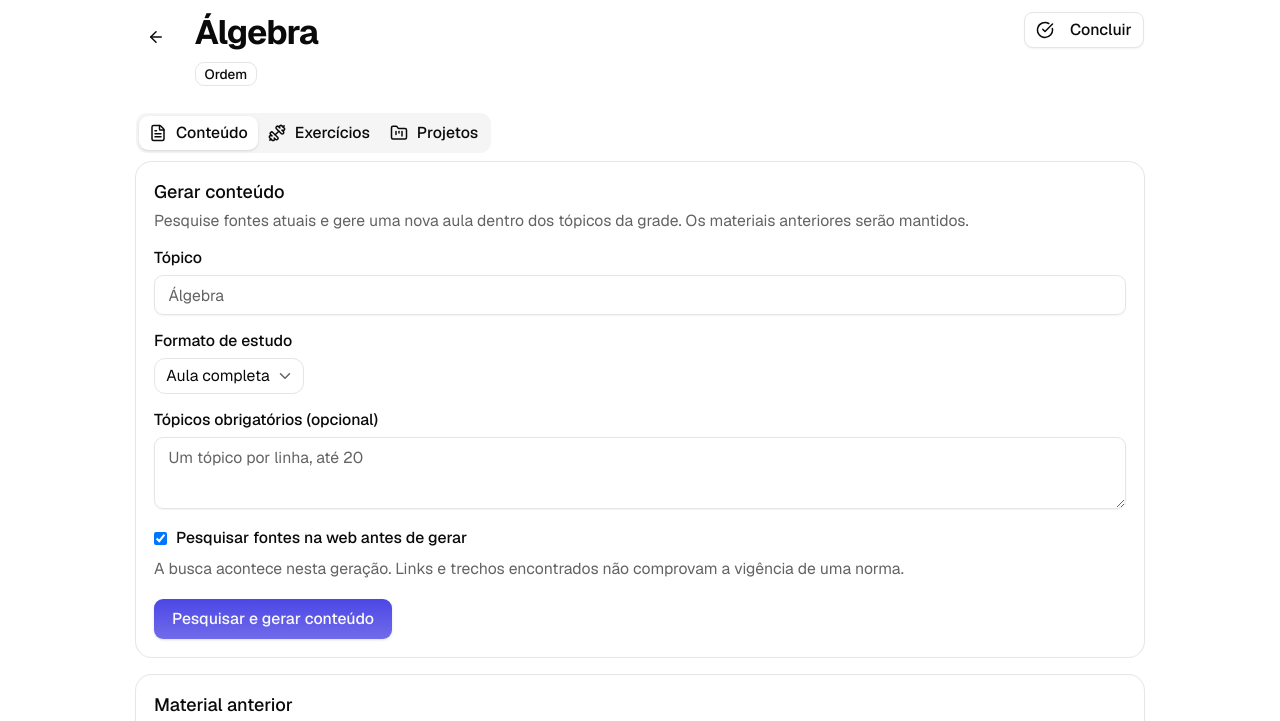
it: Geração em módulo com materiais existentes › permite escolher outro tipo e gerar um novo exercício
Click the tab "Exercícios" at coordinates (319, 133), box [258,116,380,150]
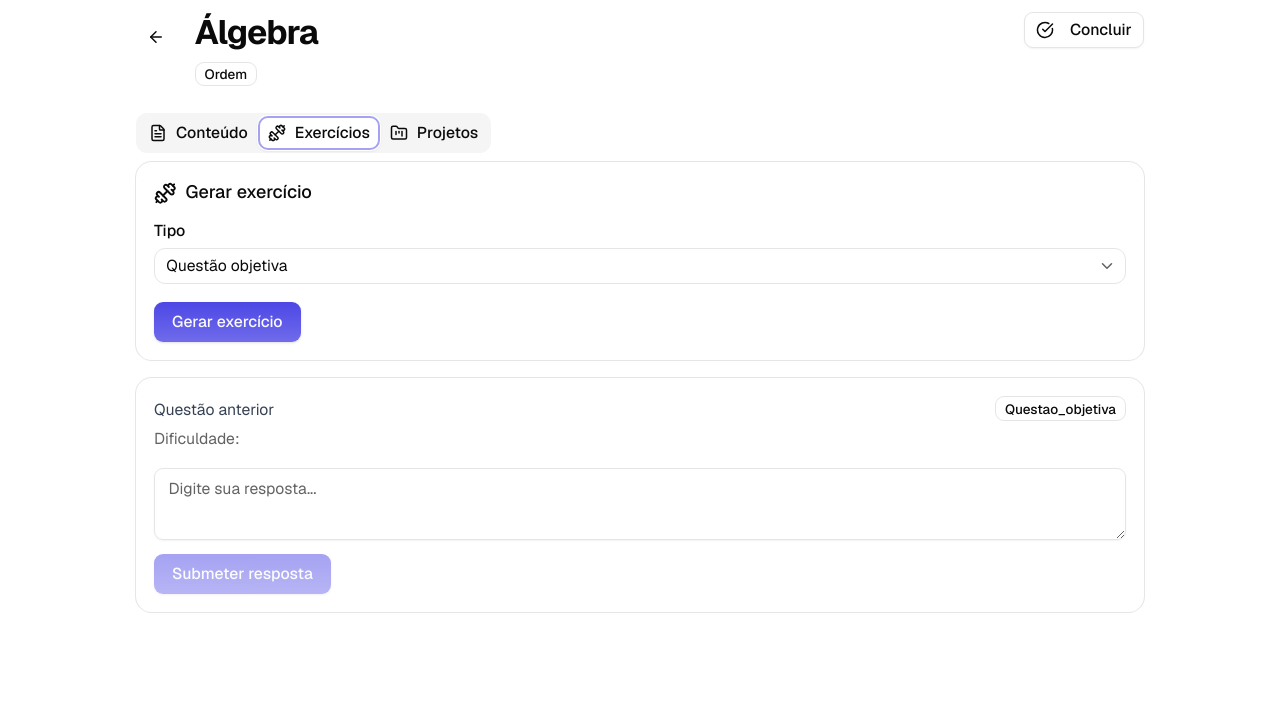
Expected: the text "Questão anterior" is shown, [154,400,274,420]
Click the dropdown at coordinates (227, 265), box [154,248,1126,284]
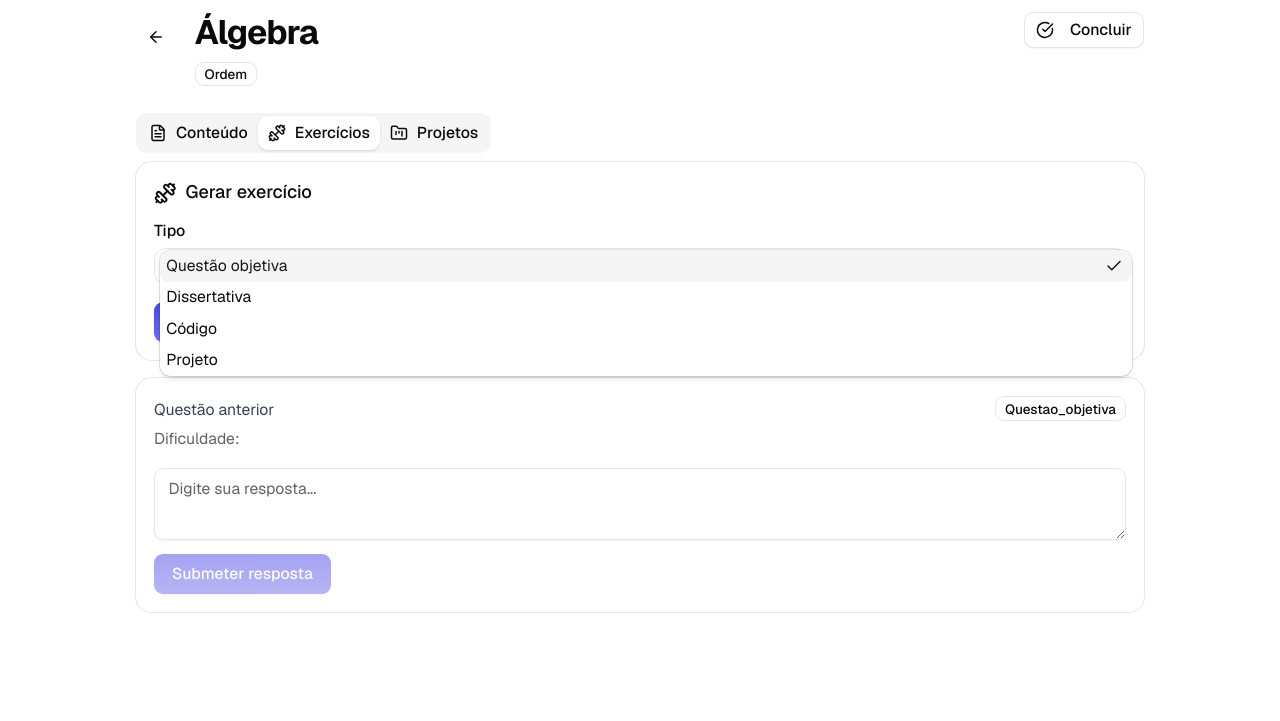
Click the option "Código" at coordinates (192, 328), box [166,318,217,339]
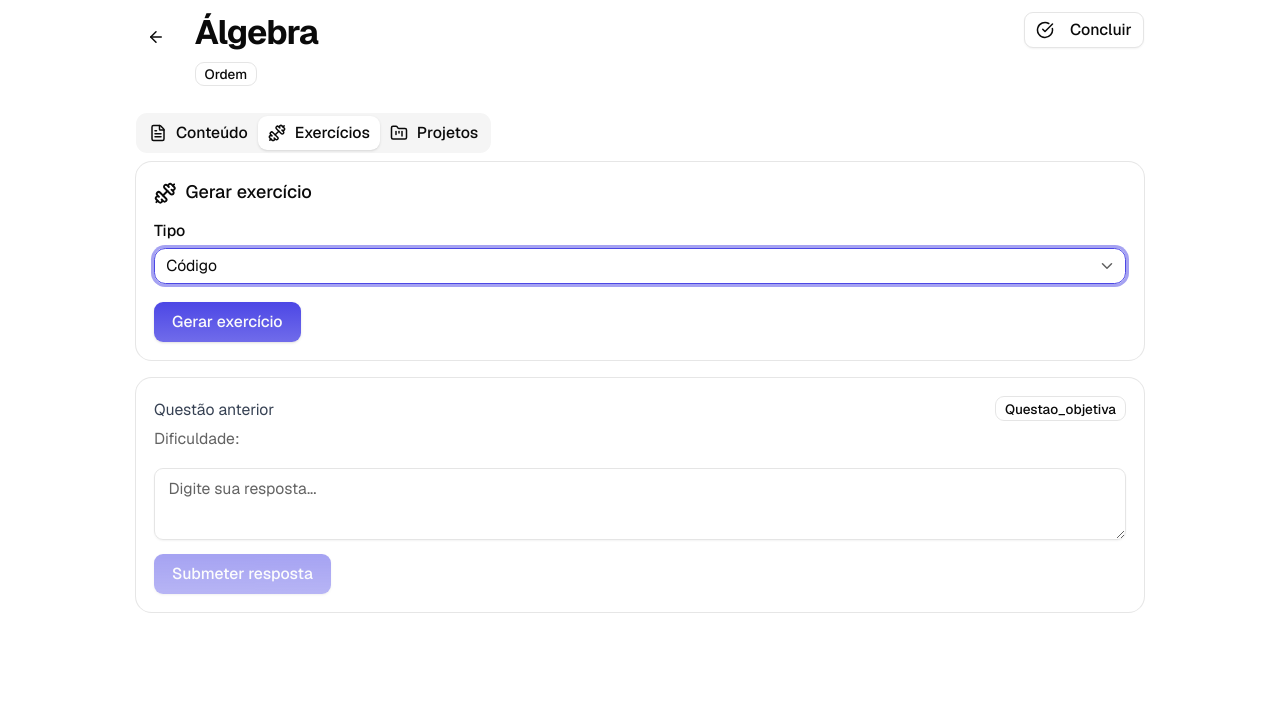
Click the button "Gerar exercício" at coordinates (227, 322), box [154,302,301,342]
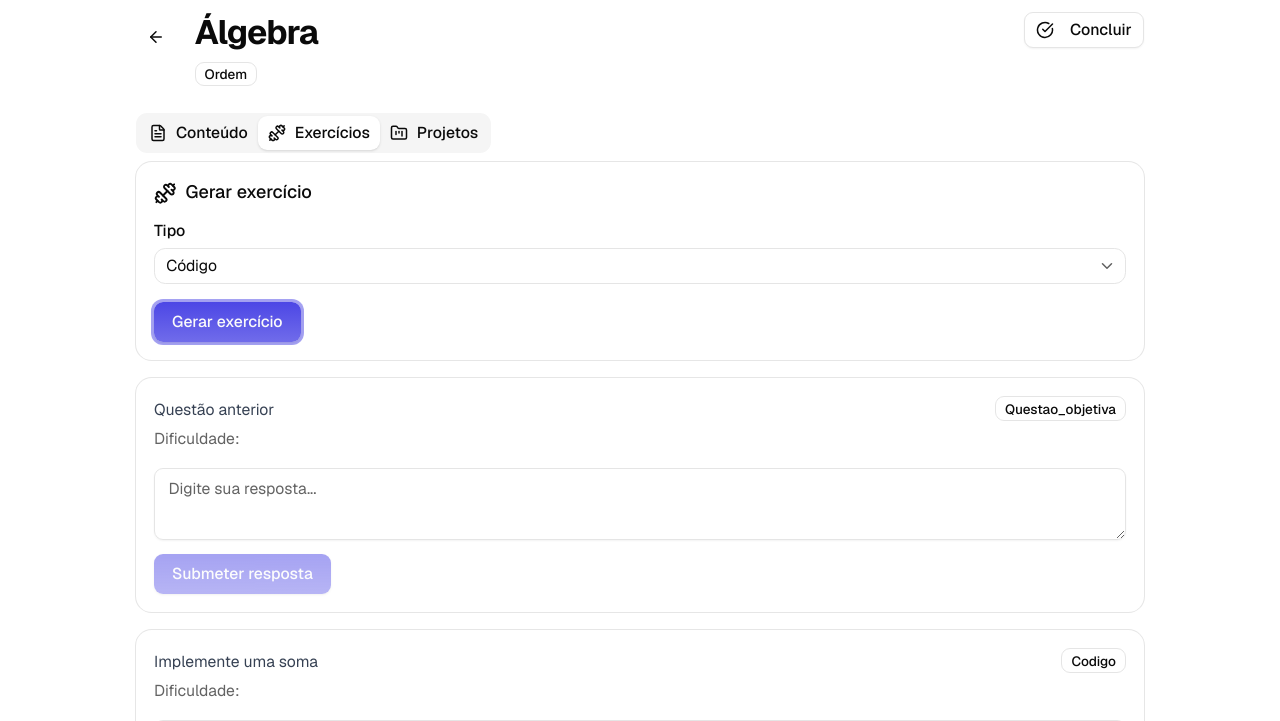
Expected: the text "Questão anterior" is shown, [154,400,274,420]
Expected: the text "Implemente uma soma" is shown, [154,652,318,672]
